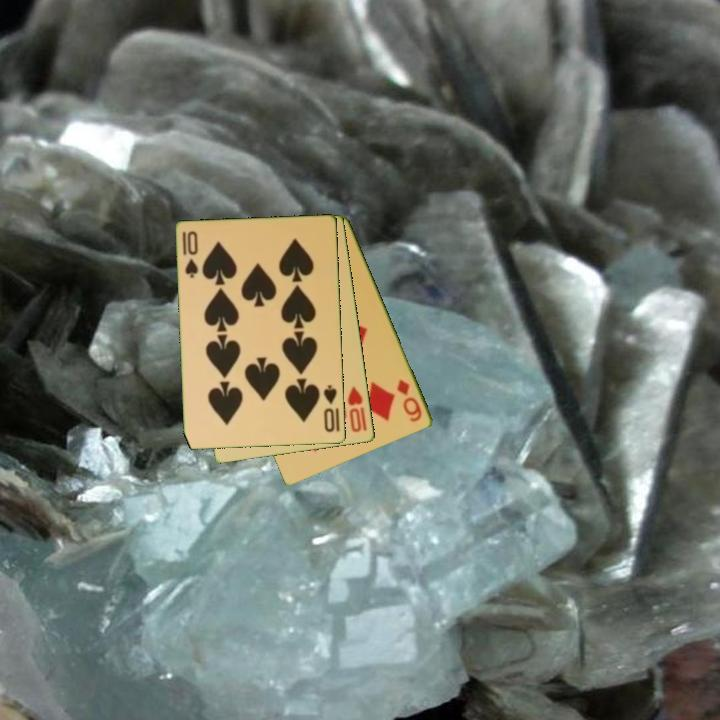10h: (344, 383, 366, 435)
10s: (179, 228, 201, 281), (320, 382, 340, 435)
6d: (394, 376, 425, 425)
